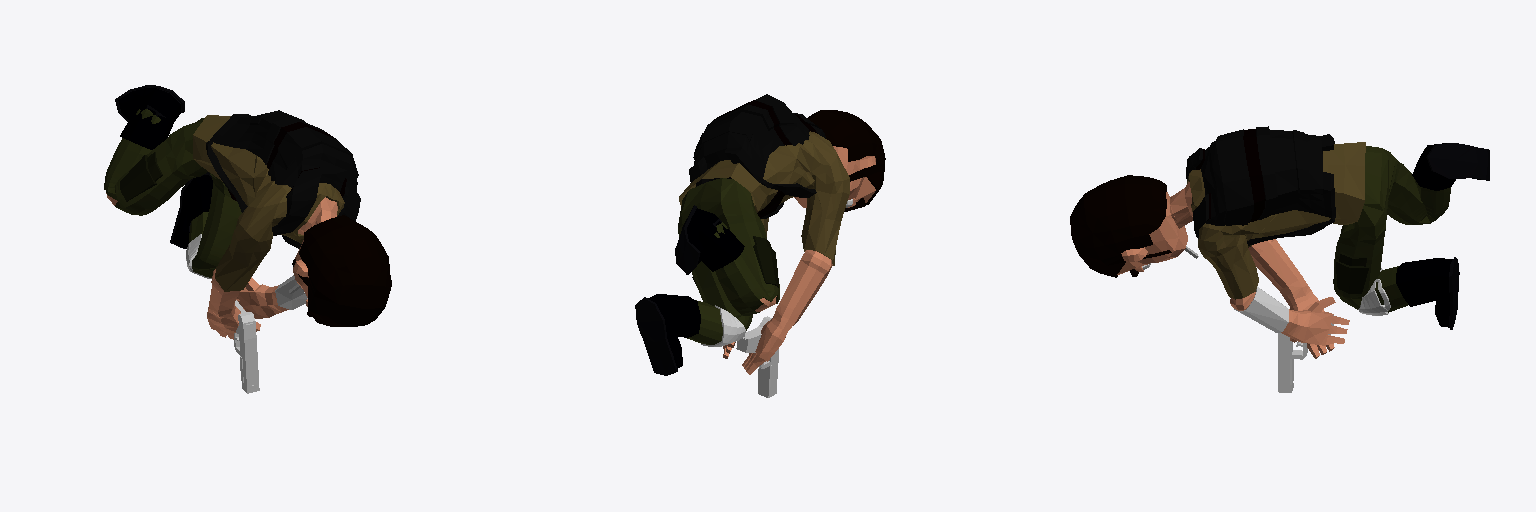
The model's file is frame_0001.obj.
3 renders of one model, left to right at view 1: azimuth 30°, elevation 25°; view 2: azimuth 150°, elevation 25°; view 3: azimuth 270°, elevation 25°, orthographic.
Parts seen in each view (by area): view 1: Body, Gun; view 2: Body, Gun; view 3: Body, Gun.
Part boxes in pixels (left/top/right/bottom): Body: left=104, top=85, right=391, bottom=339; Gun: left=234, top=300, right=259, bottom=393; Body: left=635, top=94, right=885, bottom=375; Gun: left=736, top=316, right=778, bottom=397; Body: left=1070, top=126, right=1489, bottom=358; Gun: left=1278, top=315, right=1333, bottom=392.
Size of the model in its own units: 1.42 by 2.41 by 3.38.